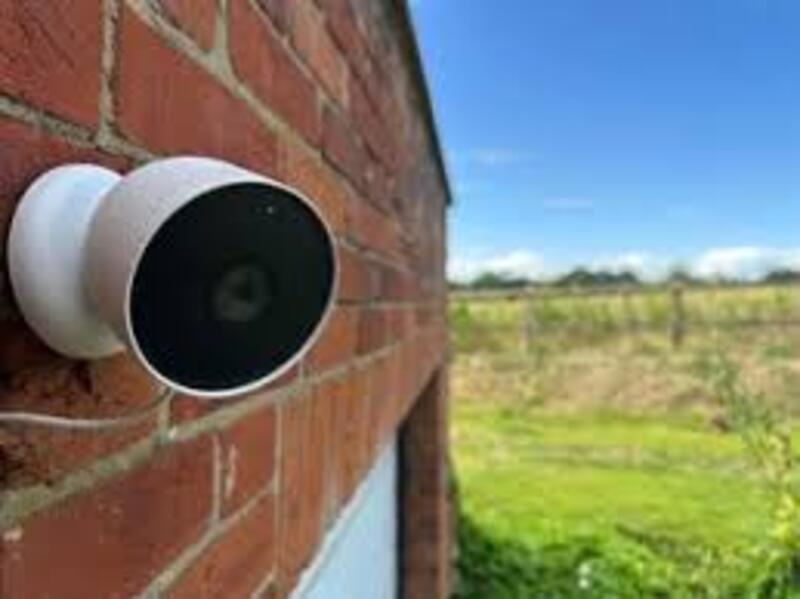nest: (81, 150, 353, 410)
